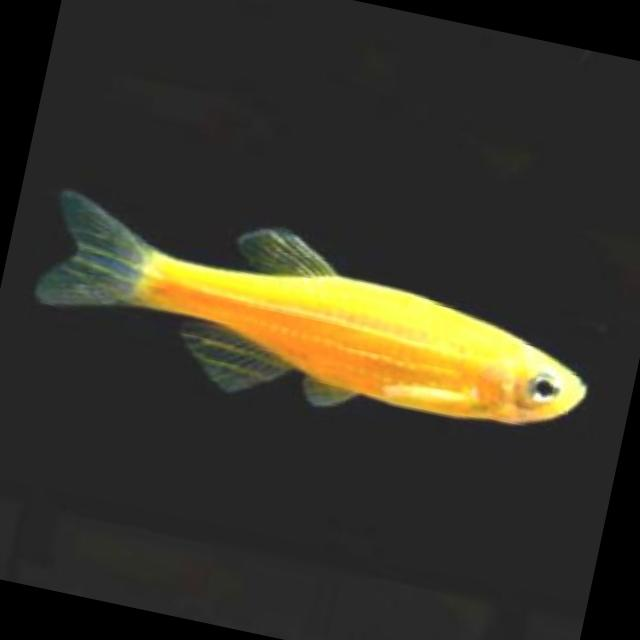ZebraFish: (25, 186, 605, 443)
